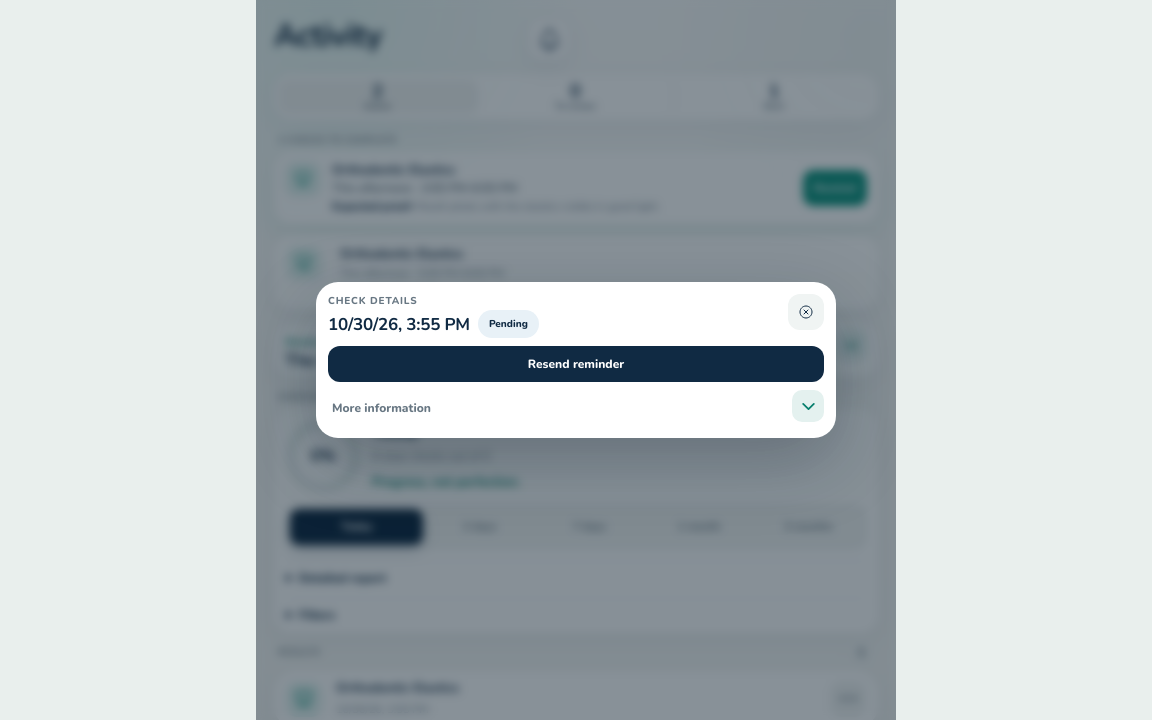
Scenario: ParentDashboard › offers the contextual Resend reminder action from notification details
Click the button "Resend reminder". click: click(576, 364)
box: [328, 346, 824, 382]
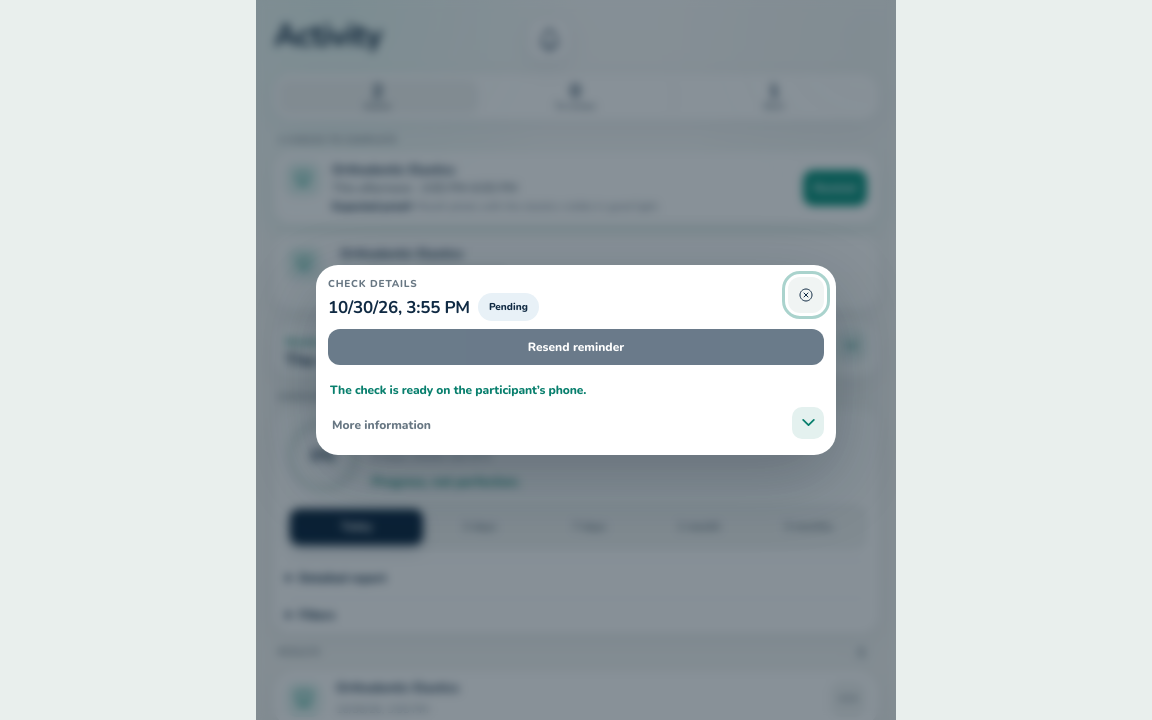
Now the element with class "history-detail-request-actions" shows "The check is ready on the participant’s phone.", box [330, 382, 586, 398]
